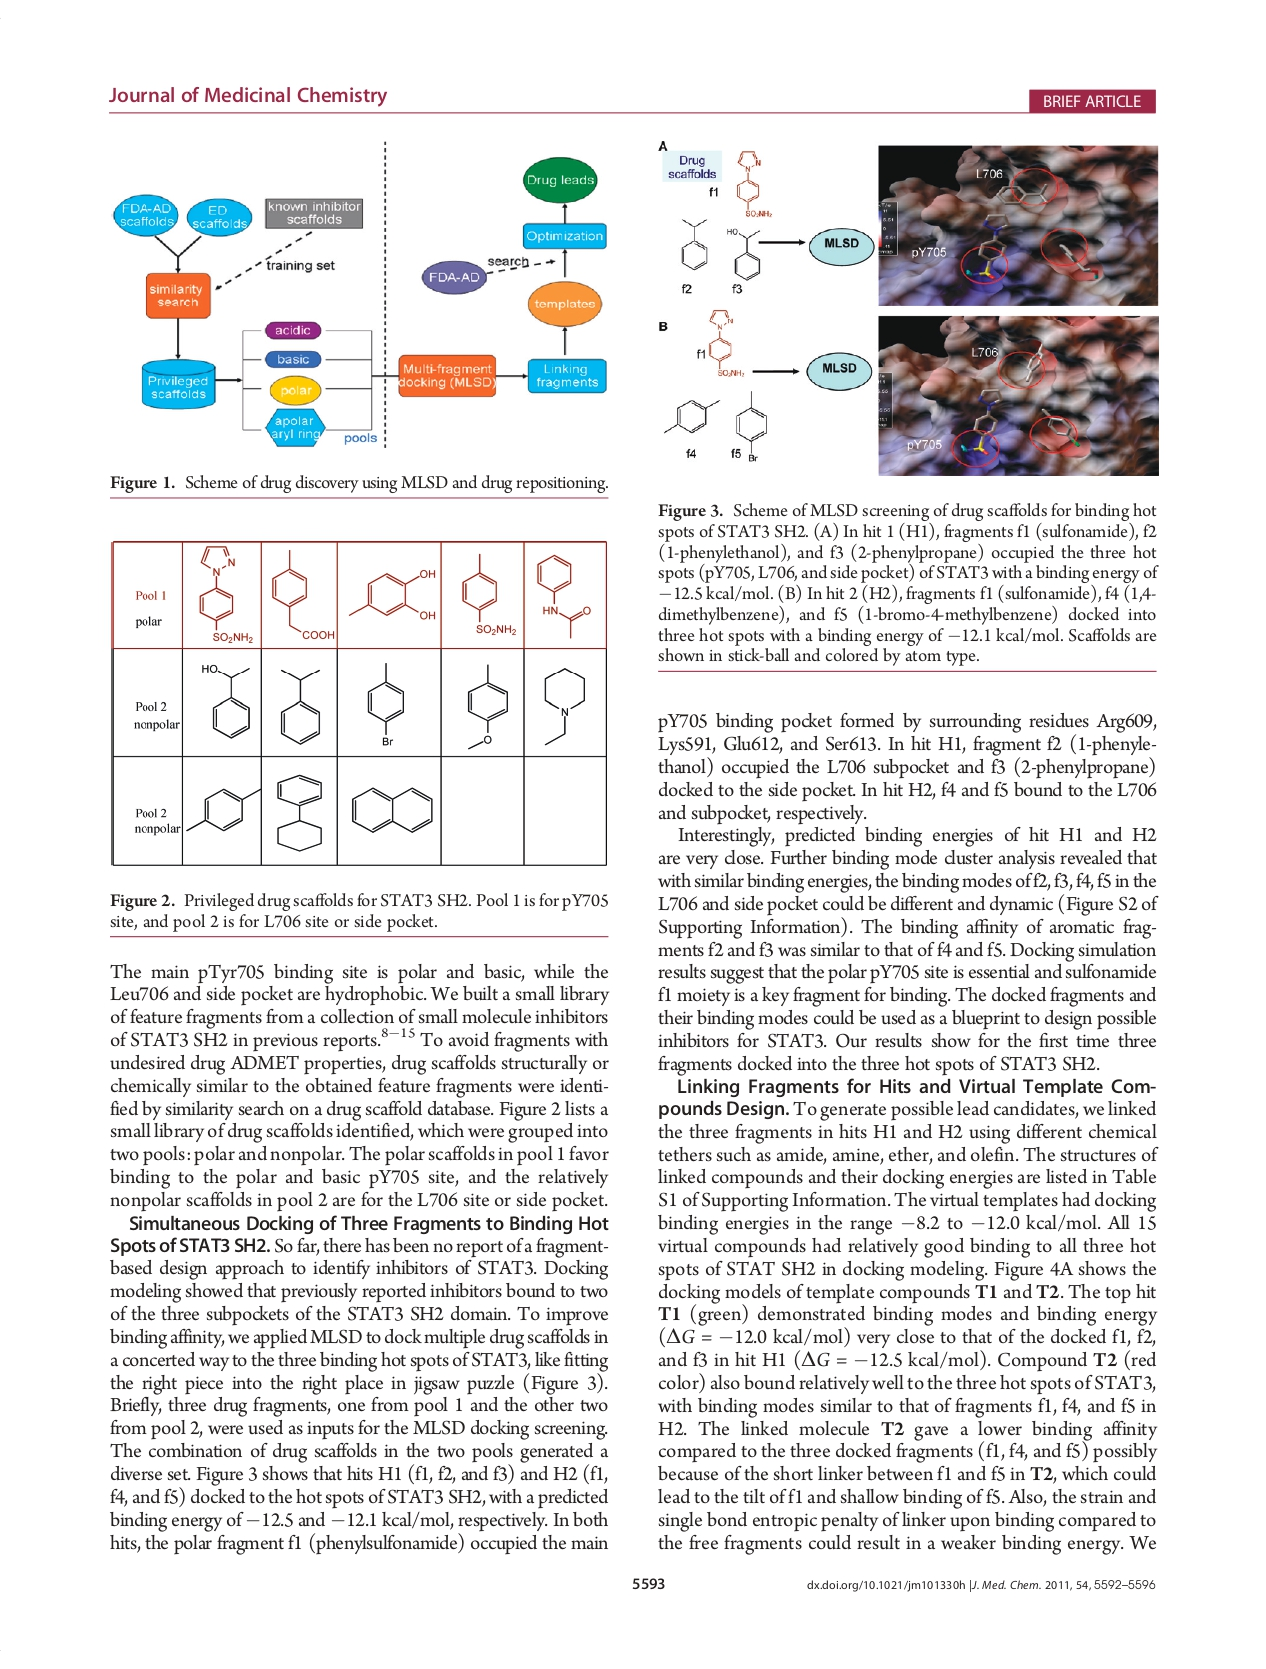exist_molecular: (269, 547, 335, 644), (195, 543, 254, 644), (344, 567, 438, 625), (457, 551, 517, 637), (532, 552, 592, 638), (273, 660, 328, 749), (195, 660, 257, 741), (269, 769, 326, 855), (347, 781, 435, 835), (460, 661, 511, 751), (359, 657, 407, 747), (539, 664, 589, 746), (186, 785, 261, 834), (729, 146, 774, 221), (731, 387, 770, 464), (706, 306, 746, 378), (661, 395, 722, 438), (723, 226, 763, 281), (676, 215, 713, 273)
